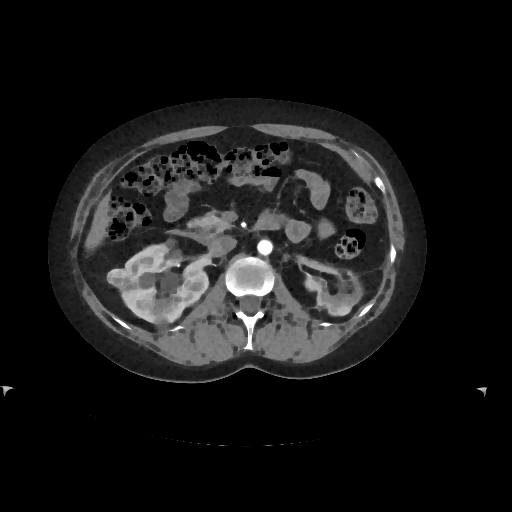Lesion: (103, 266, 136, 291)
